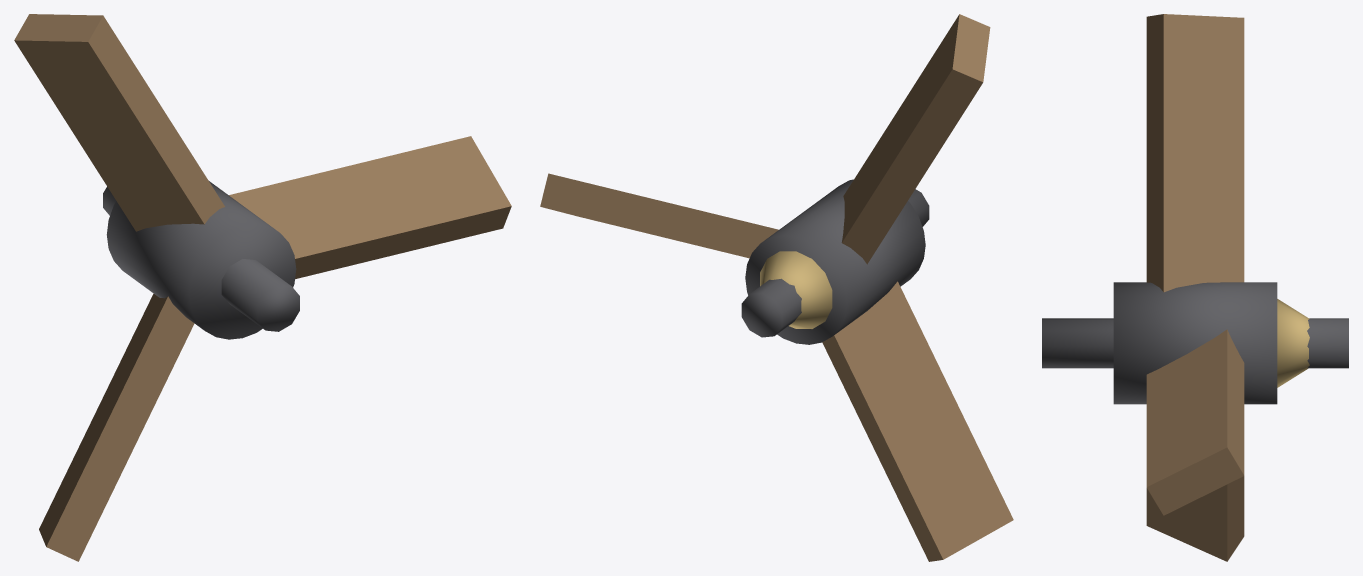
Rendered from propeller.glb.
3 views of the same model, side by side, from view 1: azimuth 30°, elevation 25°; view 2: azimuth 150°, elevation 25°; view 3: azimuth 270°, elevation 25° (orthographic). The views are drawn at different scales.
Parts seen in each view (by area): view 1: Propeller; view 2: Propeller; view 3: Propeller.
Boxes of the visible parts, x1,y1,x2,y2 form: Propeller: (14, 14, 511, 561); Propeller: (540, 14, 1013, 561); Propeller: (1042, 14, 1348, 561).
Bounding box in the file's own units: 0.512 × 0.5912 × 0.3.
